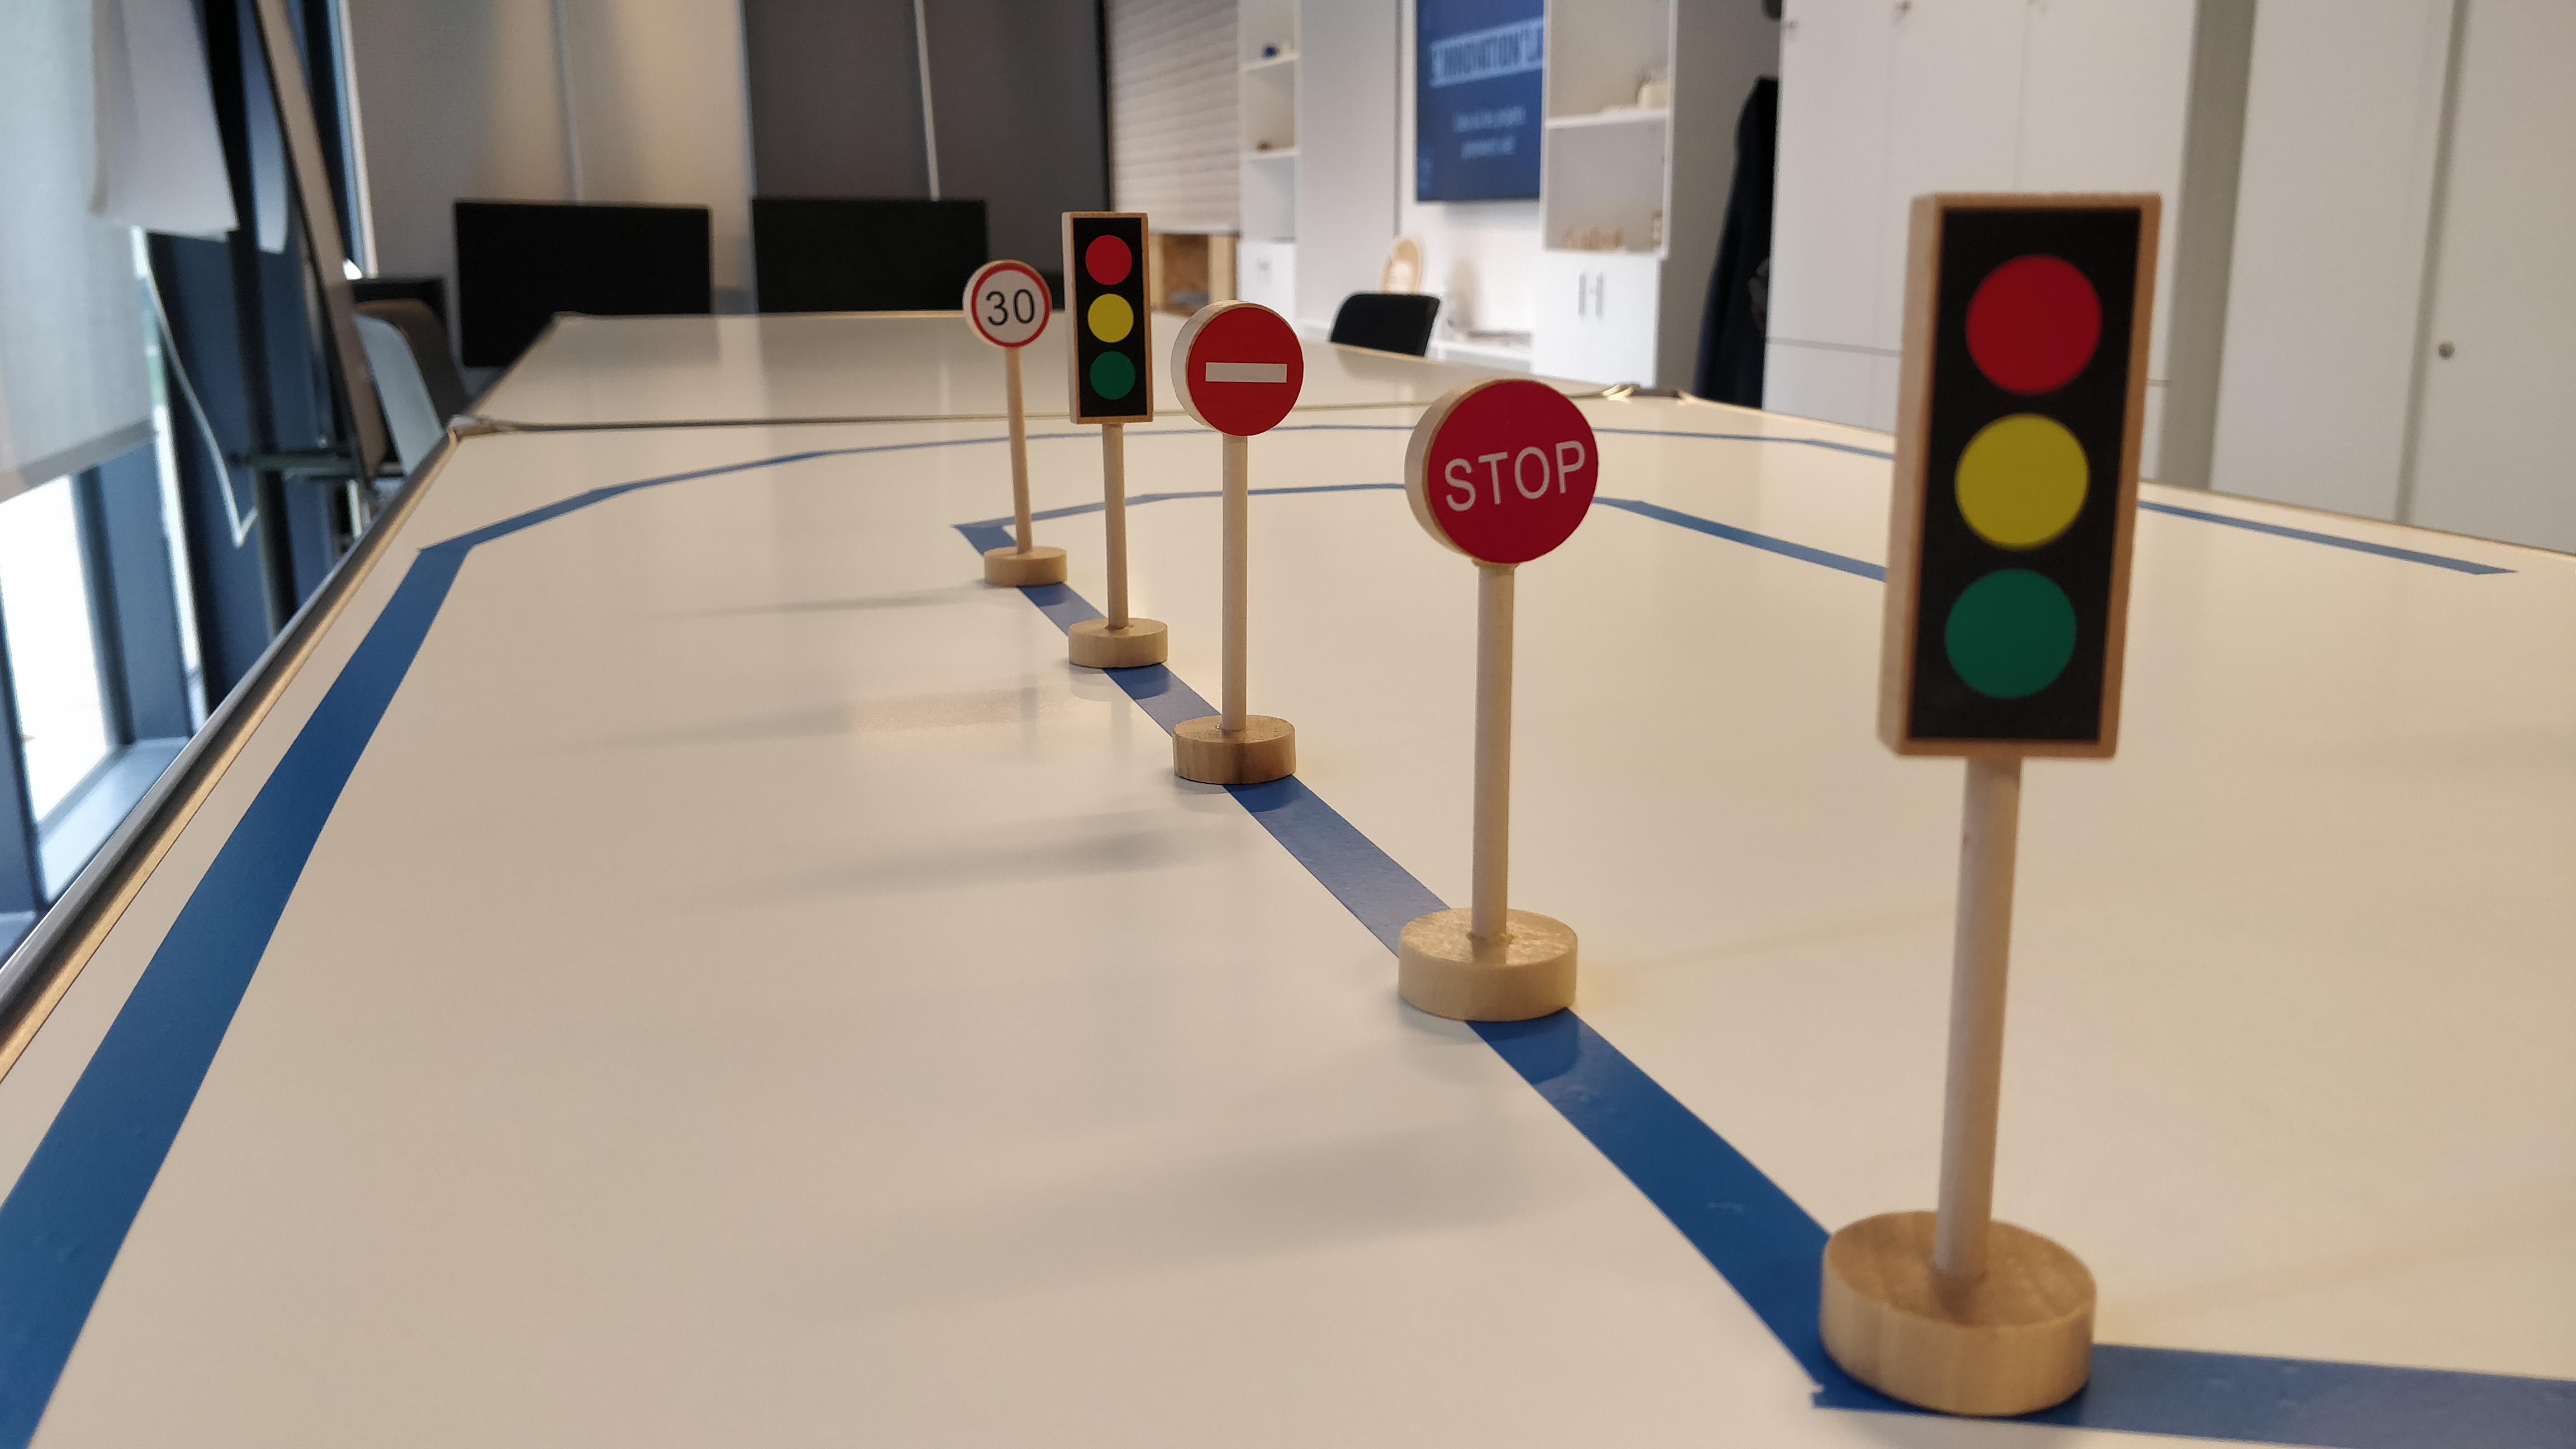Prohibition Sign: (1170, 301, 1313, 442)
Speed Limit 30: (967, 259, 1052, 354)
Stop Sign: (1400, 372, 1604, 570)
Traffic Light: (1871, 186, 2171, 768), (1057, 207, 1156, 429)
